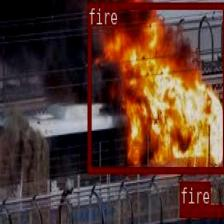fire: (87, 2, 224, 172), (179, 204, 222, 216)
